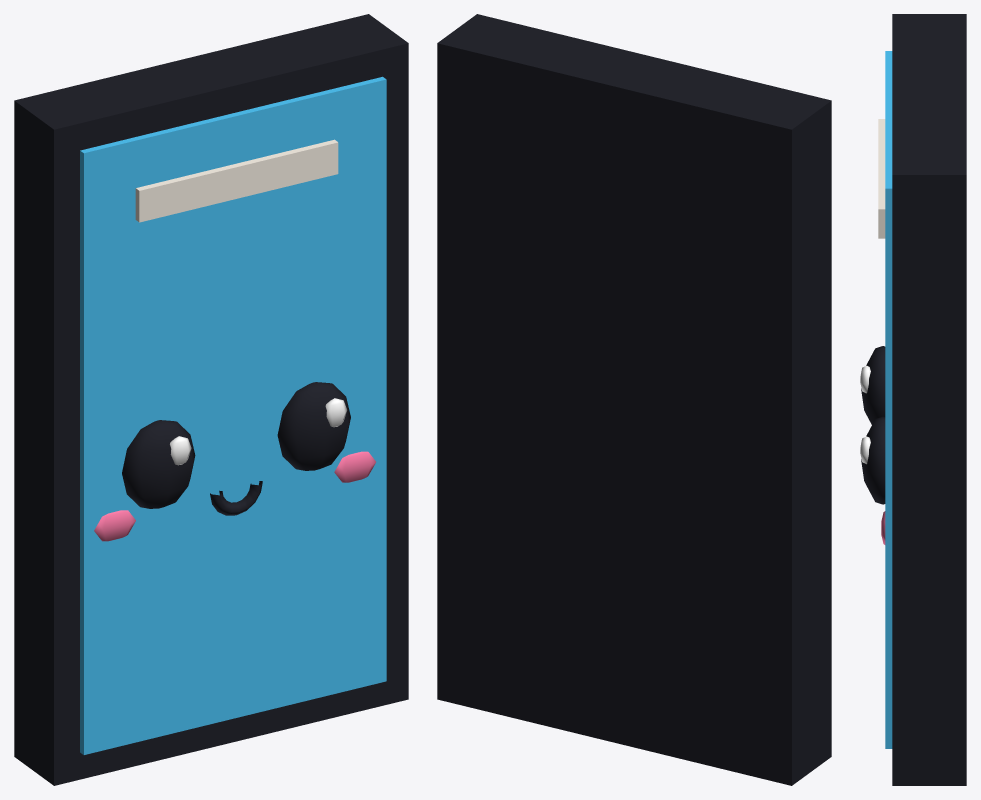
File: 07-responsive.obj
3 views of the same model, side by side, from view 1: azimuth 30°, elevation 25°; view 2: azimuth 150°, elevation 25°; view 3: azimuth 270°, elevation 25° (orthographic). The views are drawn at different scales.
Visible parts, largest first — view 1: screen, bezel, eye, uiBar, cheek, eyeGlint, mouth; view 2: bezel; view 3: bezel, screen, eye, uiBar, eyeGlint.
Boxes of the visible parts, x1,y1,x2,y2 form: screen: (80, 76, 386, 754); bezel: (14, 14, 408, 785); eye: (122, 382, 350, 508); uiBar: (135, 139, 338, 222); cheek: (94, 451, 375, 541); eyeGlint: (170, 398, 347, 465); mouth: (210, 481, 262, 515); bezel: (437, 14, 831, 785); bezel: (892, 14, 966, 785); screen: (885, 51, 892, 748); eye: (861, 346, 885, 504); uiBar: (878, 119, 885, 238); eyeGlint: (860, 365, 870, 464).
Size of what is drawn, in the model's own units: 0.82 by 1.45 by 0.2288.
